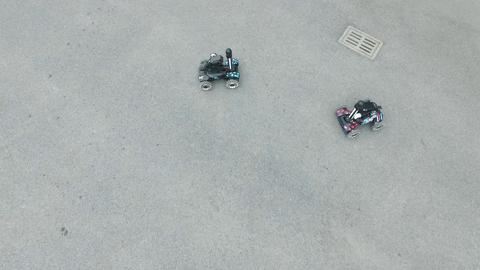chariot: (328, 87, 391, 147), (193, 46, 247, 96)
